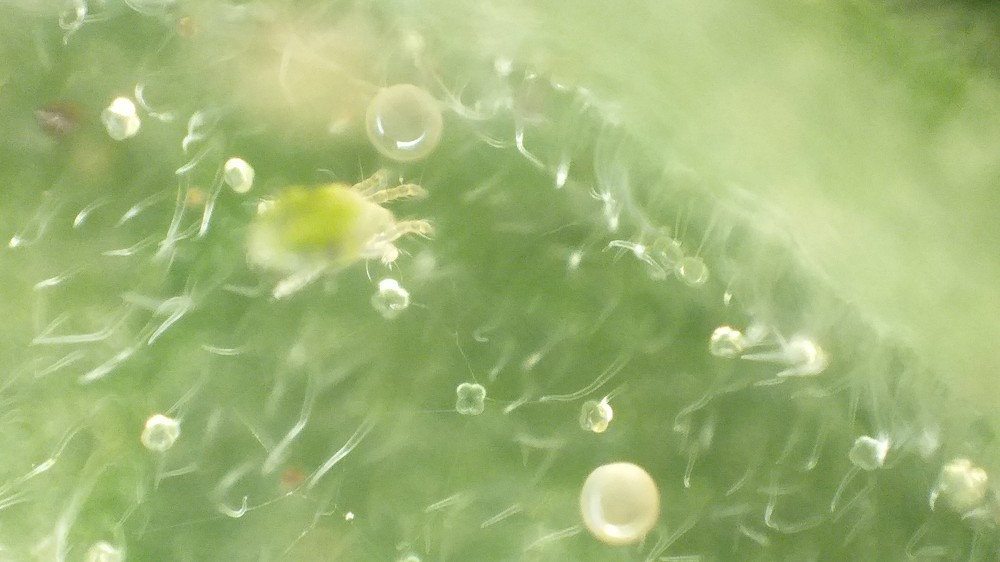Aracnido Rojo: (221, 144, 454, 292)
